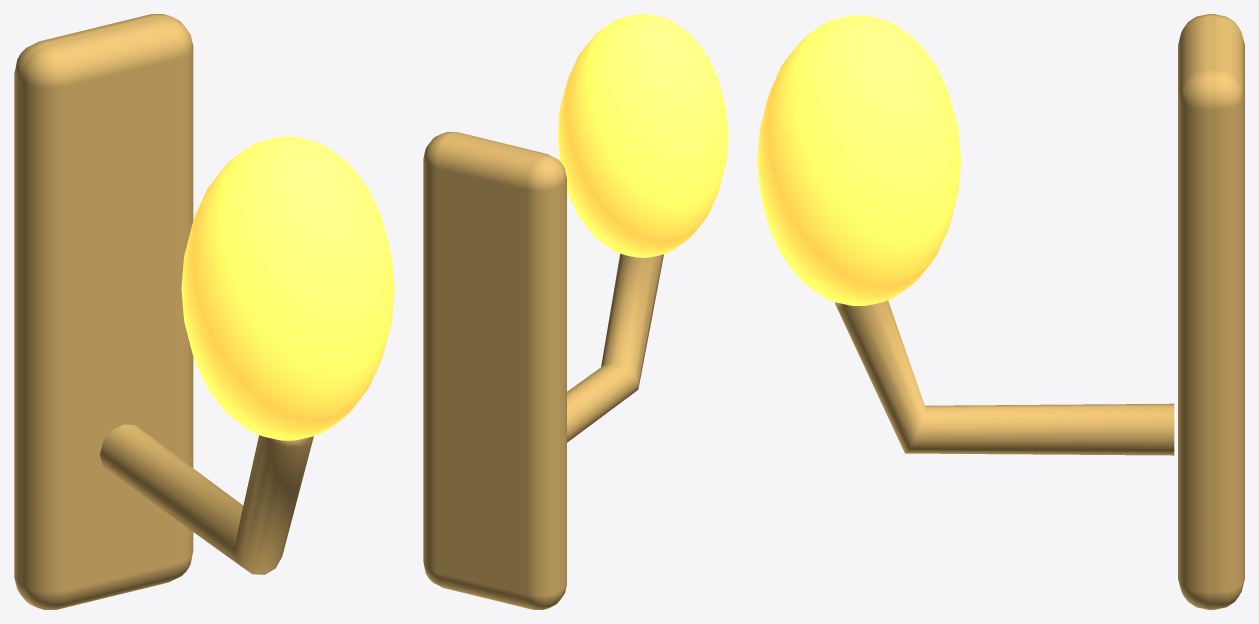
The model's file is Wall_Sconce.glb.
The picture shows the model from 3 angles, left to right: view 1: azimuth 30°, elevation 25°; view 2: azimuth 150°, elevation 25°; view 3: azimuth 270°, elevation 25°; orthographic projection. The views are drawn at different scales.
Visible parts, largest first — view 1: Wall_Sconce; view 2: Wall_Sconce; view 3: Wall_Sconce.
Part boxes in pixels (x1,y1,x2,y2): Wall_Sconce: (14, 14, 394, 609); Wall_Sconce: (423, 14, 728, 609); Wall_Sconce: (757, 14, 1244, 609).
Size of the model in its own units: 0.11 by 0.333 by 0.263.
